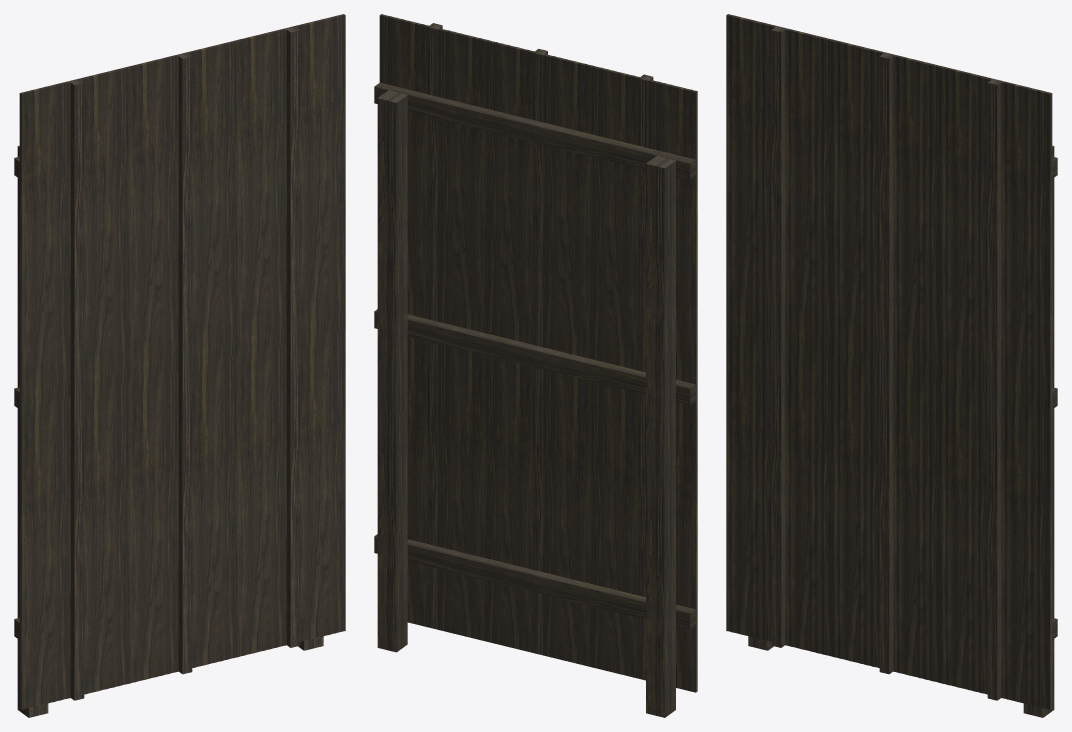
File: kodawari-roji_h1800_blackebony.fbx
3 renders of one model, left to right at view 1: azimuth 30°, elevation 25°; view 2: azimuth 150°, elevation 25°; view 3: azimuth 330°, elevation 25°, orthographic. The views are drawn at different scales.
Parts seen in each view (by area): view 1: kodawari-roji_h1800_blackebony; view 2: kodawari-roji_h1800_blackebony; view 3: kodawari-roji_h1800_blackebony.
Boxes of the visible parts, box(x1,y1,x2,y2) form: kodawari-roji_h1800_blackebony: box(14, 14, 345, 717); kodawari-roji_h1800_blackebony: box(374, 14, 697, 717); kodawari-roji_h1800_blackebony: box(726, 14, 1057, 717).
Bounding box in the file's own units: 99.3 × 185 × 12.
Materials: 2 (2 with a texture image).
